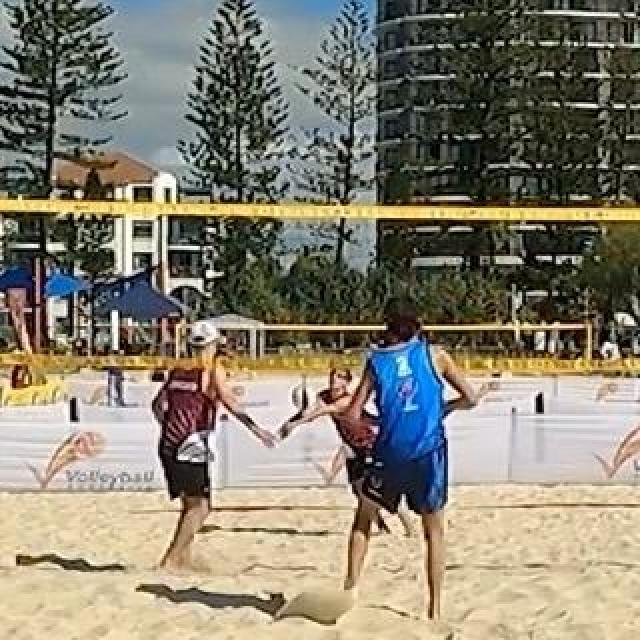volleyball: (292, 383, 320, 411)
